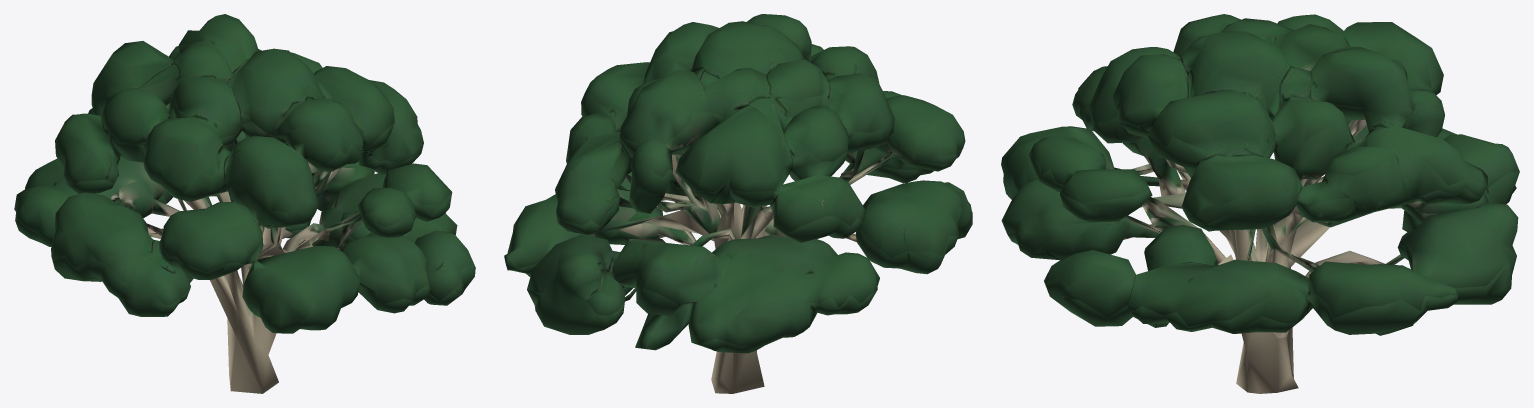
3 renders of one model, left to right at view 1: azimuth 30°, elevation 25°; view 2: azimuth 150°, elevation 25°; view 3: azimuth 270°, elevation 25°, orthographic. The views are drawn at different scales.
Parts seen in each view (by area): view 1: node_0; view 2: node_0; view 3: node_0.
Boxes of the visible parts, left/top/right/bottom form: node_0: left=14, top=14, right=475, bottom=393; node_0: left=504, top=14, right=972, bottom=393; node_0: left=1001, top=14, right=1519, bottom=393.
Bounding box in the file's own units: 22.69 × 19.65 × 26.16.
1 material, 1 textured.
